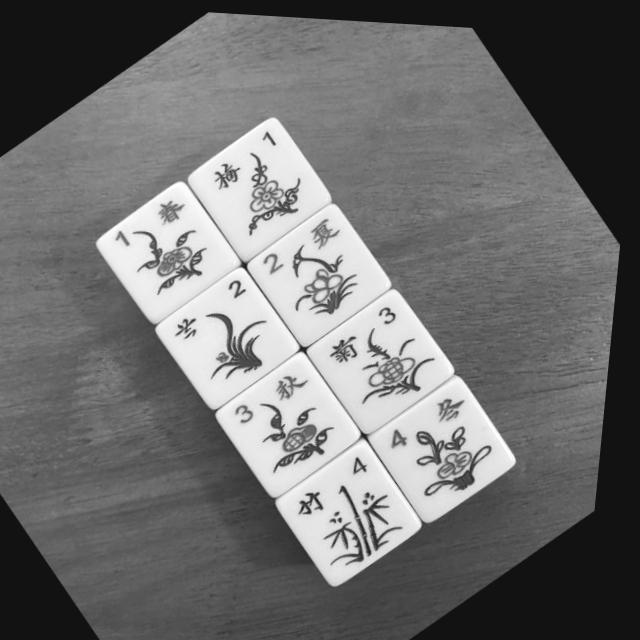bf1: (188, 112, 338, 259)
bf2: (153, 255, 316, 414)
bf3: (310, 279, 468, 432)
bf4: (276, 432, 438, 590)
bs1: (98, 178, 244, 320)
bs2: (239, 191, 405, 352)
bs3: (220, 345, 372, 494)
bs4: (366, 363, 535, 527)
